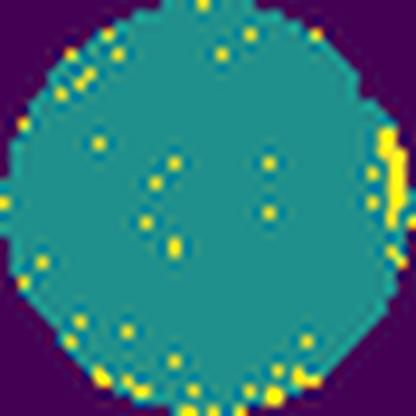Edge-Loc: (372, 120, 415, 228)
